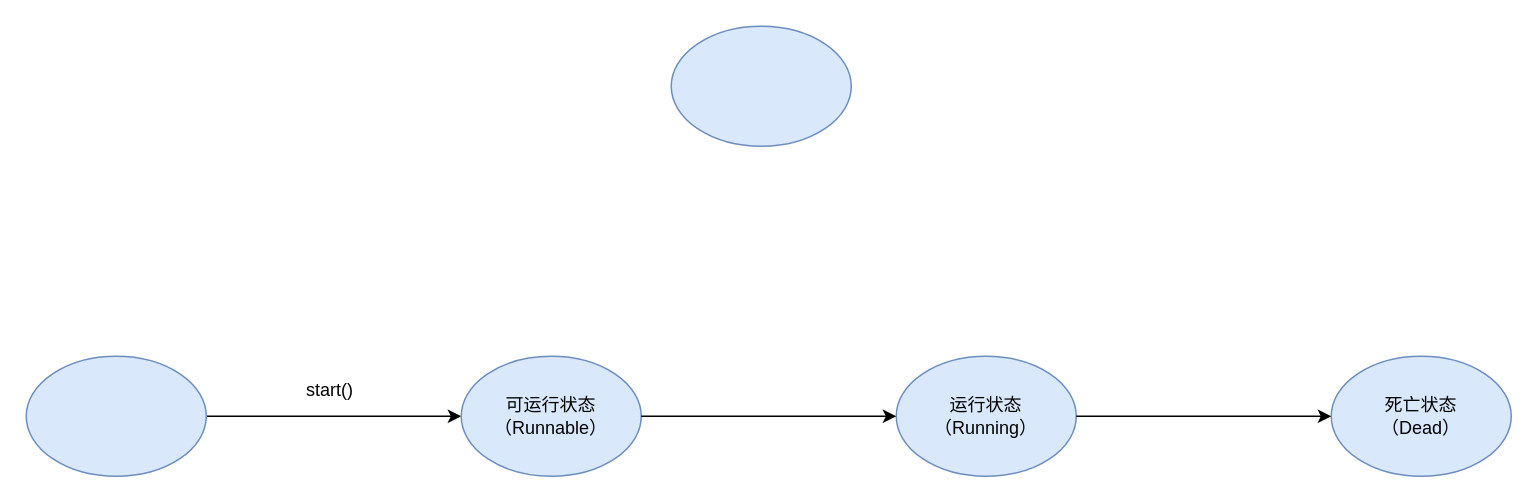
The diagram is 1538 pixels wide and 503 high, and some of its shapes have lost their labels. Here are the shapes that lost their labels. From the top down, the centre of each, then its label:
point (760, 85): 阻塞状态 （Blocked）
point (115, 415): 初始状态 （New）
